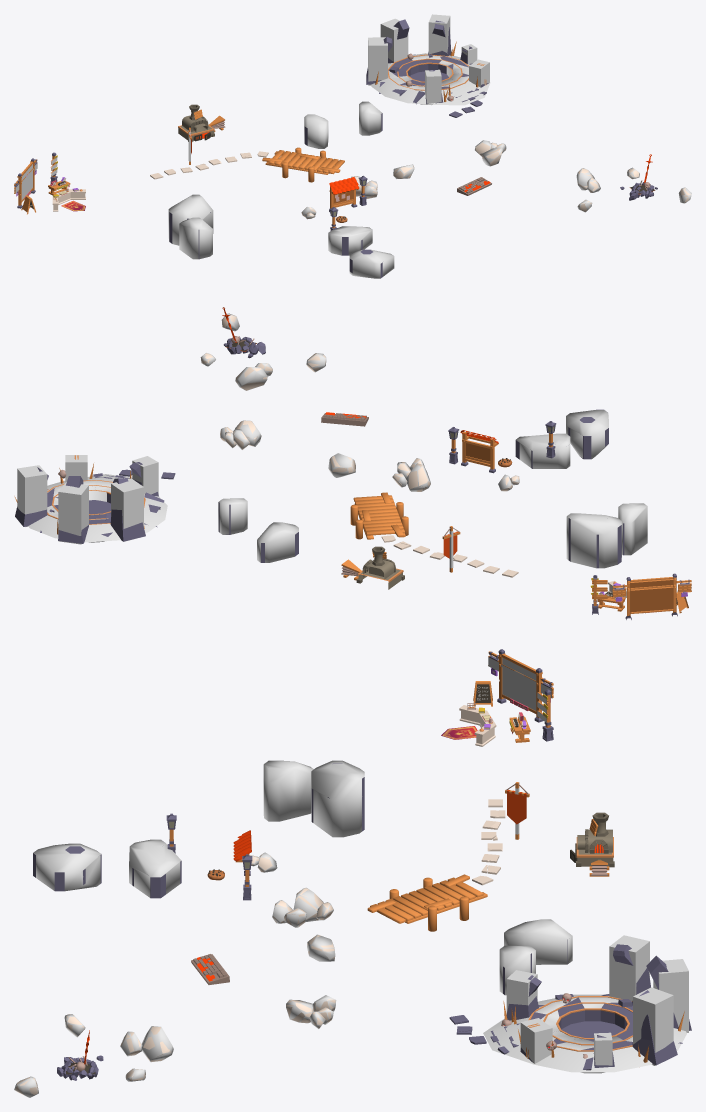
File: sceneryStatic.glb
3 renders of one model, top to bottom at view 1: azimuth 30°, elevation 25°; view 2: azimuth 150°, elevation 25°; view 3: azimuth 270°, elevation 25°, orthographic. The views are drawn at different scales.
Visible parts, largest first — view 1: trimesh.001, Cube.139, hull.016, hull.015, Cylinder.021, hull.011, hull.012, Cube.165, Cube.172, hull.014, Cube.164, Cube.146 (+6 smaller); view 2: hull.015, trimesh.001, Cube.139, Cube.172, hull.012, Cube.164, hull.011, Cube.146, Cylinder.022, hull.016, Cube.165, hull.014 (+13 smaller); view 3: trimesh.001, hull.015, Cube.139, hull.016, Cube.172, Cylinder.021, hull.011, hull.014, hull.012, Cube.146, Cube.165, Cube.164 (+10 smaller).
Boxes of the visible parts, x1,y1,x2,y2 form: trimesh.001: (371,53,490,105); Cube.139: (262,147,344,182); hull.016: (179,217,212,259); hull.015: (168,194,213,245); Cylinder.021: (388,56,486,102); hull.011: (349,249,394,278); hull.012: (328,226,372,255); Cube.165: (368,37,387,85); Cube.172: (366,19,472,103); hull.014: (304,114,328,148); Cube.164: (380,18,408,62); Cube.146: (428,14,450,54); hull.015: (566,513,621,568); trimesh.001: (28,474,167,542); Cube.139: (350,492,408,539); Cube.172: (15,462,158,543); hull.012: (516,433,570,468); Cube.164: (58,482,88,544); hull.011: (566,410,608,459); Cube.146: (17,465,47,526); Cylinder.022: (218,409,624,568); hull.016: (618,503,647,555); Cube.165: (111,478,143,541); hull.014: (257,522,298,562); trimesh.001: (483,994,686,1073); hull.015: (311,760,364,837); Cube.139: (367,874,487,931); hull.016: (263,760,313,821); Cube.172: (506,944,691,1067); Cylinder.021: (490,997,632,1054); hull.011: (33,843,101,891); hull.014: (504,919,572,964); hull.012: (129,839,181,897); Cube.146: (633,987,673,1065); Cube.165: (609,935,649,1001); Cube.164: (653,959,688,1032).
Bounding box in the file's own units: 69.21 × 8.2 × 50.04.
Materials: 24 (3 with a texture image).
